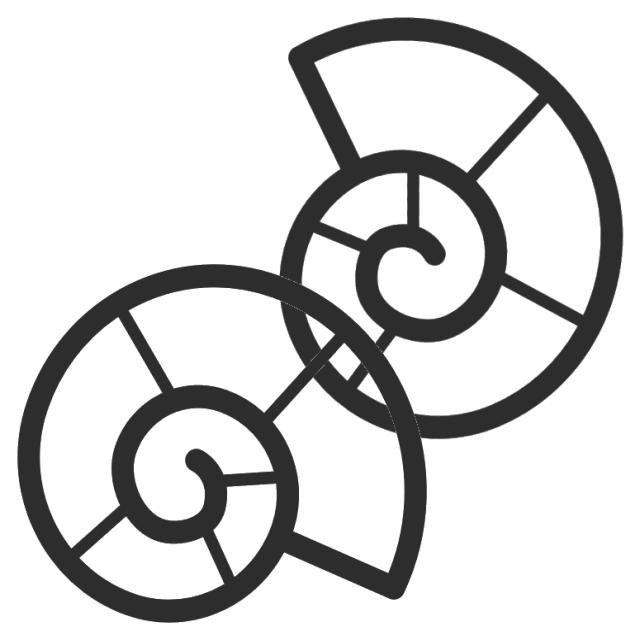fossil: (9, 255, 437, 636), (271, 6, 629, 444)
